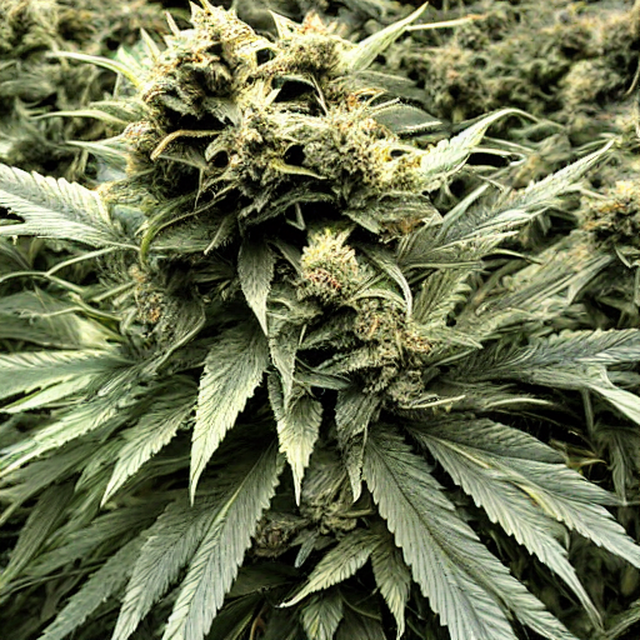Marijuana Plant: (1, 1, 640, 529)
